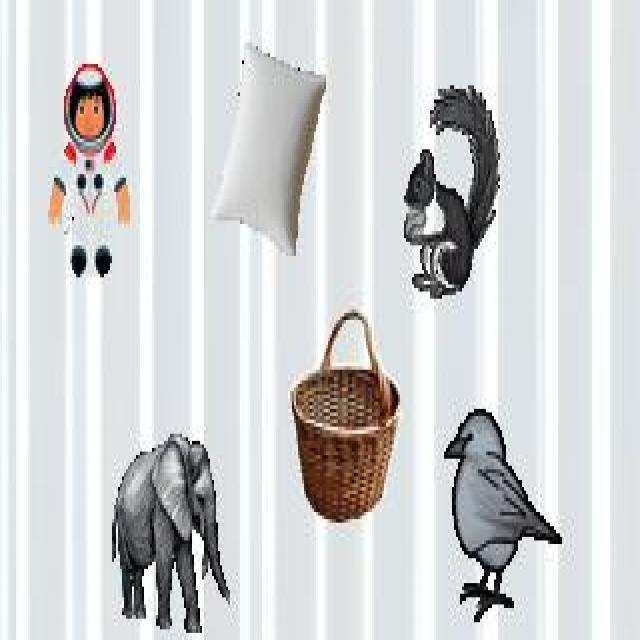Other Objects: (443, 406, 562, 622), (212, 40, 326, 256), (290, 310, 400, 524), (48, 62, 130, 278)
